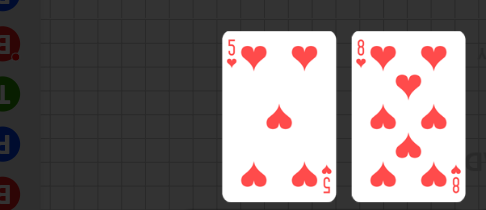5H: (226, 38, 238, 69)
8H: (354, 38, 368, 70)
